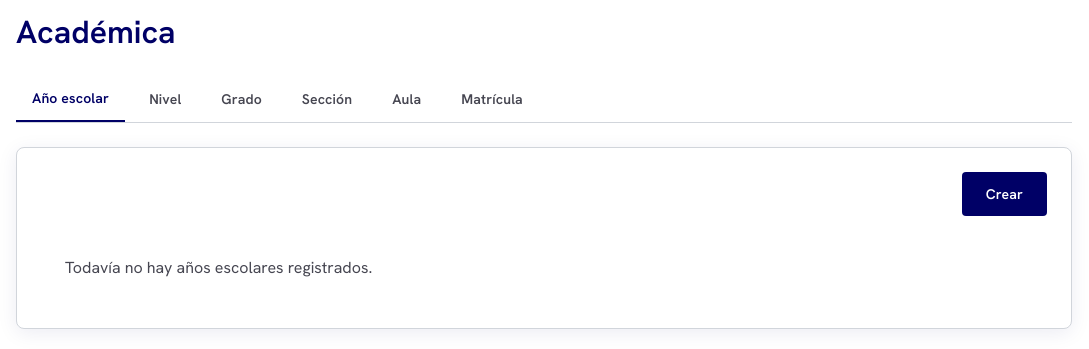
it: AcademicaPage › [5.2] hacer click en la pestaña "Nivel" renderiza su panel y desmonta el de Años
Step 1. Click the tab "Nivel" → coordinates (165, 99), box [133, 76, 197, 122]
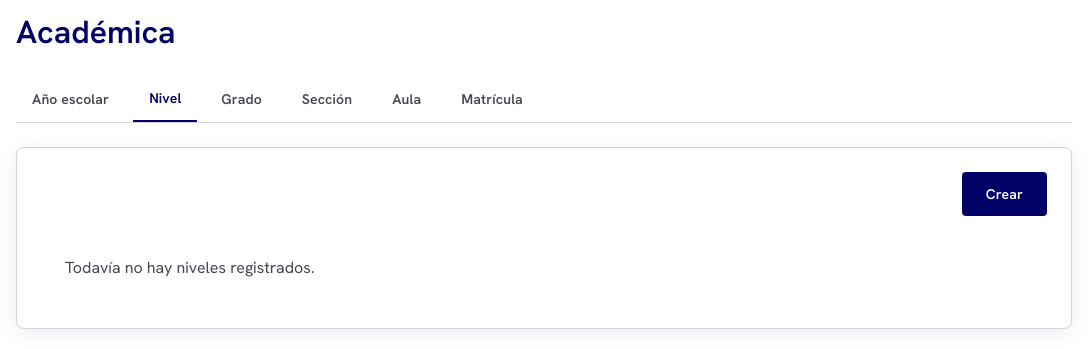
Check: the text "Todavía no hay niveles registrados." is shown, box [65, 257, 315, 278]
Check: the text "Todavía no hay años escolares registrados." is gone
